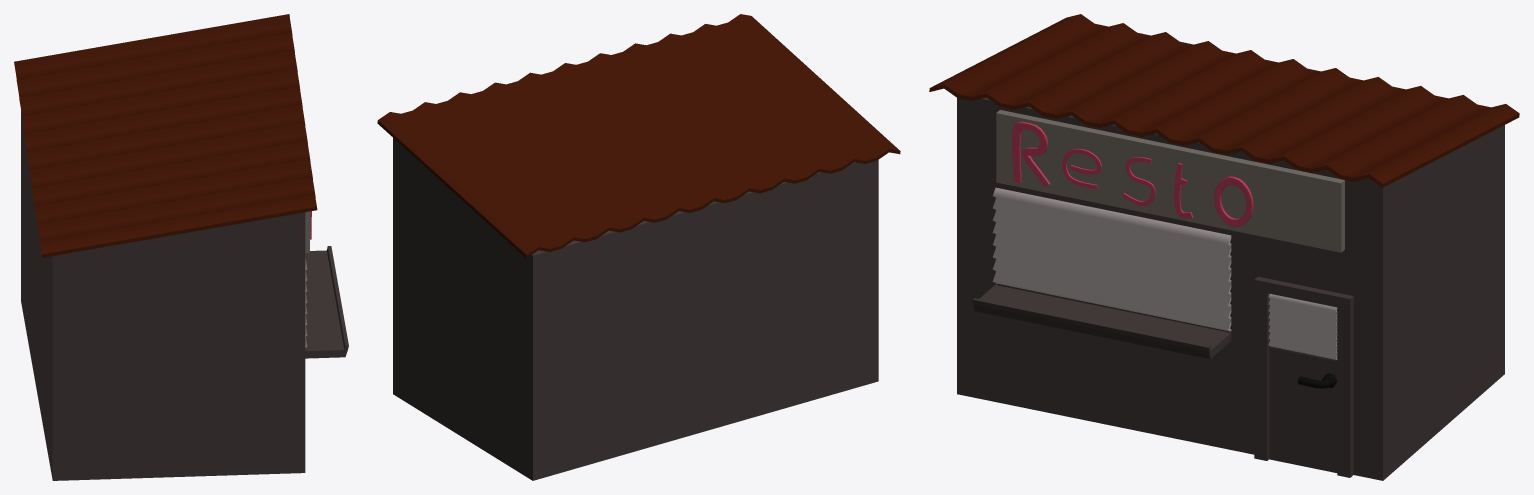
File: resto.fbx
The picture shows the model from 3 angles, left to right: view 1: azimuth 30°, elevation 25°; view 2: azimuth 150°, elevation 25°; view 3: azimuth 270°, elevation 25°; orthographic projection. The views are drawn at different scales.
Parts seen in each view (by area): view 1: bat_resto, toit_resto; view 2: bat_resto, toit_resto; view 3: bat_resto, toit_resto, grand_rideau, paneau, petit_rideau, r, o, e.
Boxes of the visible parts, x1,y1,x2,y2 form: bat_resto: [21, 111, 348, 480]; toit_resto: [14, 14, 317, 257]; bat_resto: [393, 138, 878, 480]; toit_resto: [377, 14, 900, 258]; bat_resto: [957, 97, 1504, 480]; toit_resto: [929, 14, 1519, 187]; grand_rideau: [992, 187, 1231, 331]; paneau: [996, 110, 1344, 252]; petit_rideau: [1268, 294, 1337, 359]; r: [1012, 121, 1050, 187]; o: [1214, 176, 1253, 226]; e: [1062, 148, 1101, 189].
Size of the model in its own units: 186 by 128 by 219.
